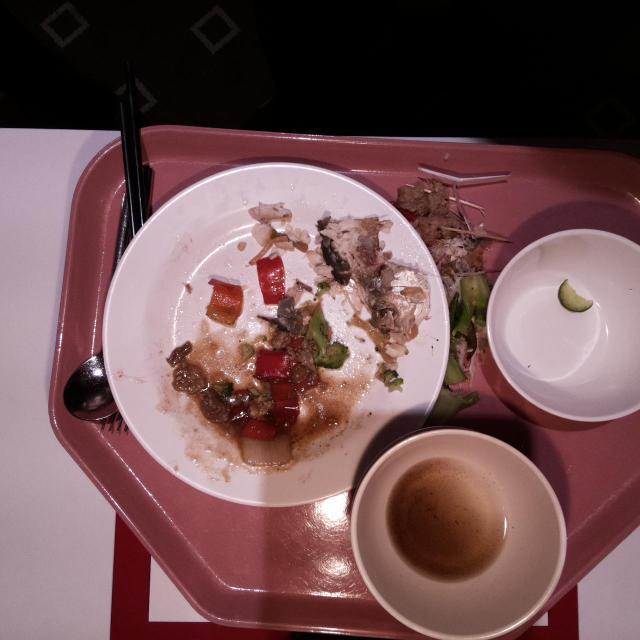Bone-fish: (362, 259, 432, 337)
Vegetable: (436, 343, 480, 425), (305, 302, 349, 373), (449, 280, 487, 334), (559, 276, 595, 316)
